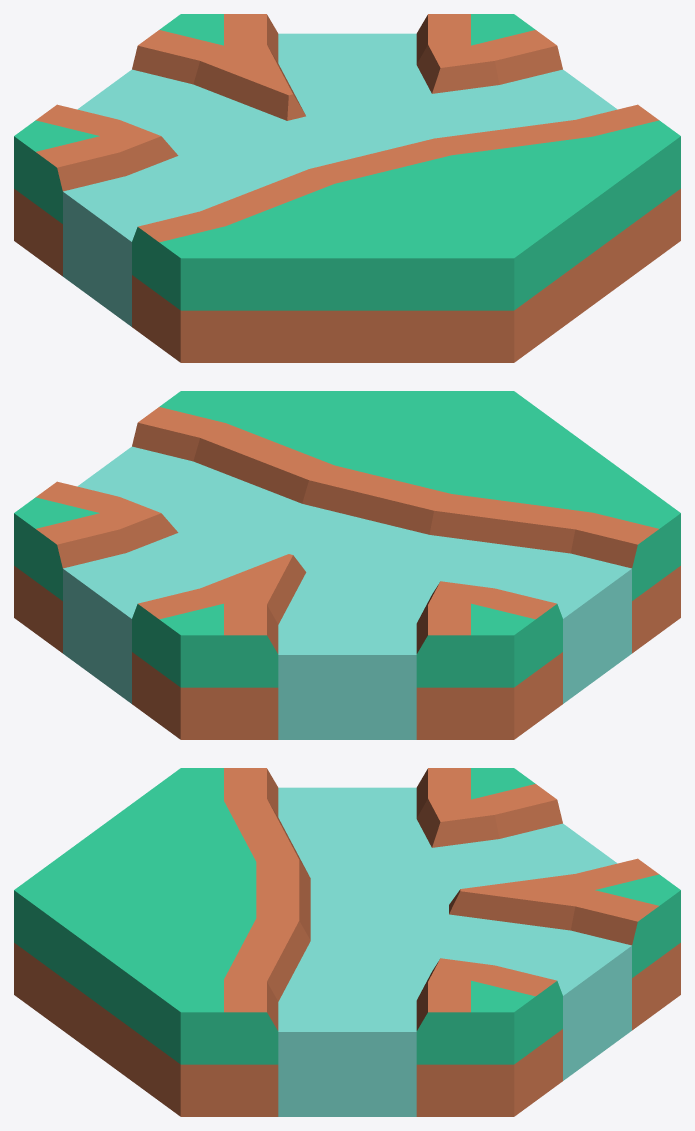
File: river_intersectionH.dae
3 renders of one model, top to bottom at view 1: azimuth 30°, elevation 25°; view 2: azimuth 150°, elevation 25°; view 3: azimuth 270°, elevation 25°, orthographic.
Parts seen in each view (by area): view 1: river_intersectionH; view 2: river_intersectionH; view 3: river_intersectionH.
Boxes of the visible parts, x1,y1,x2,y2 form: river_intersectionH: (14, 14, 680, 362); river_intersectionH: (14, 391, 680, 739); river_intersectionH: (14, 768, 680, 1116).
Size of the model in its own units: 1 by 0.2 by 1.15.
